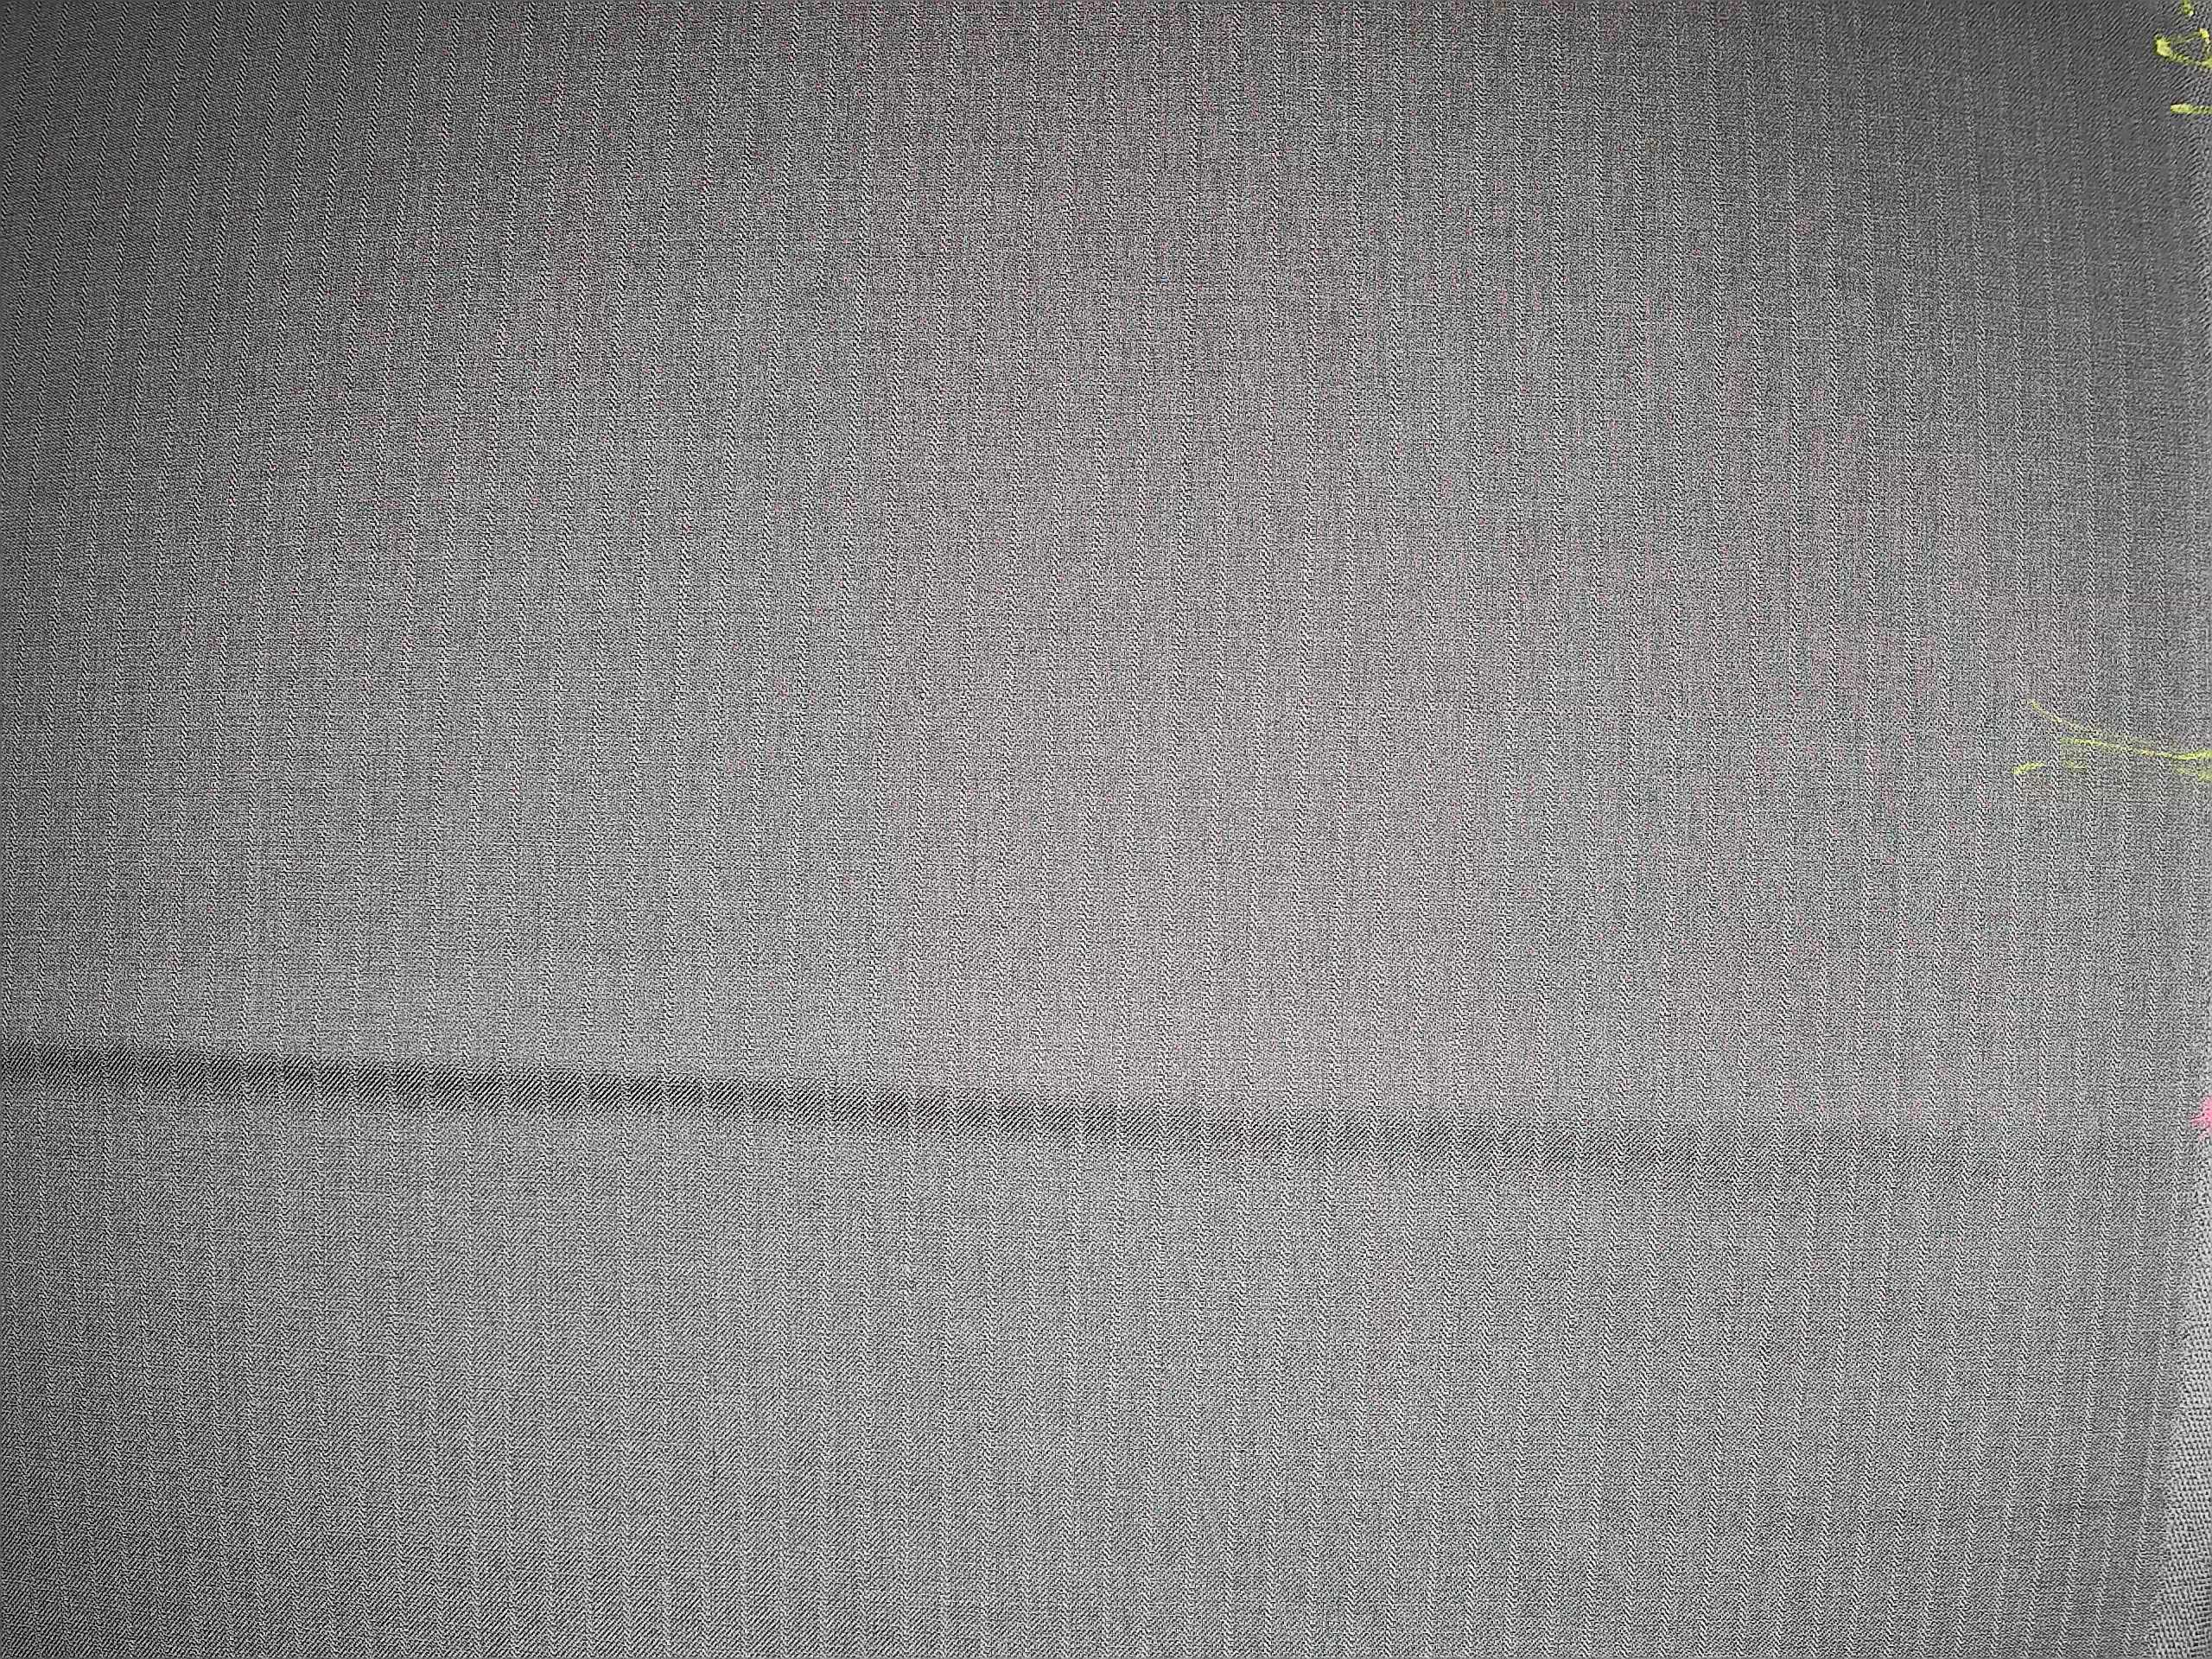thin-spinning: (1284, 676, 2017, 749)
